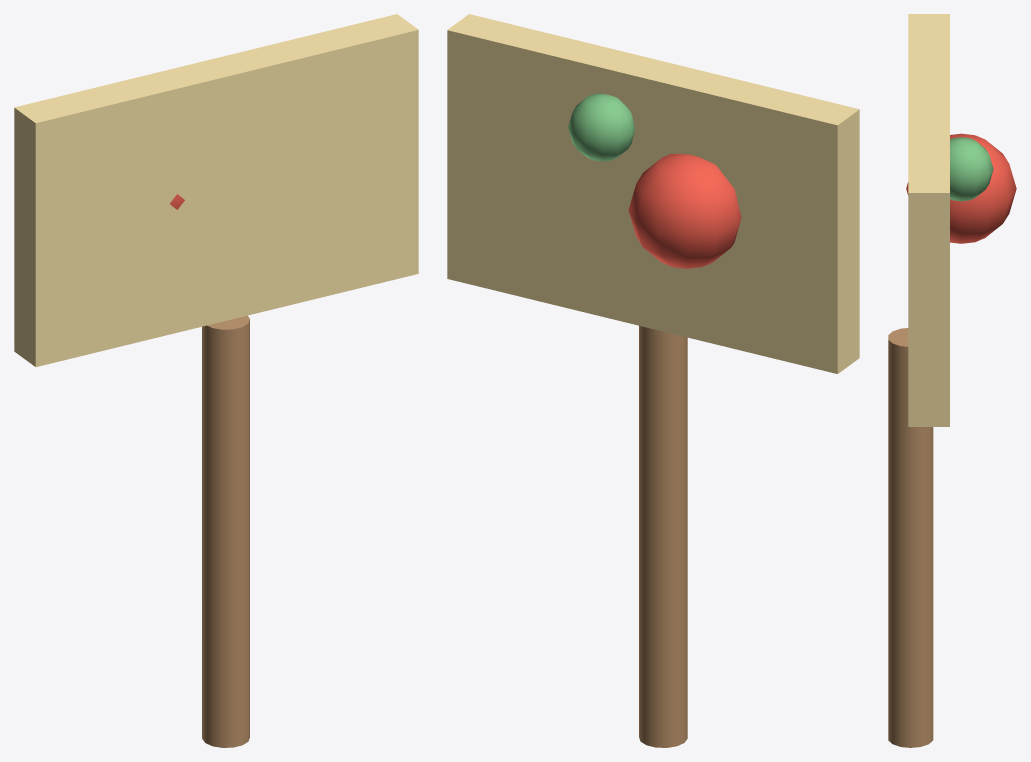
Rendered from sign.glb.
3 renders of one model, left to right at view 1: azimuth 30°, elevation 25°; view 2: azimuth 150°, elevation 25°; view 3: azimuth 270°, elevation 25°, orthographic. The views are drawn at different scales.
Bounding box in the file's own units: 0.46 × 0.76 × 0.1394.
